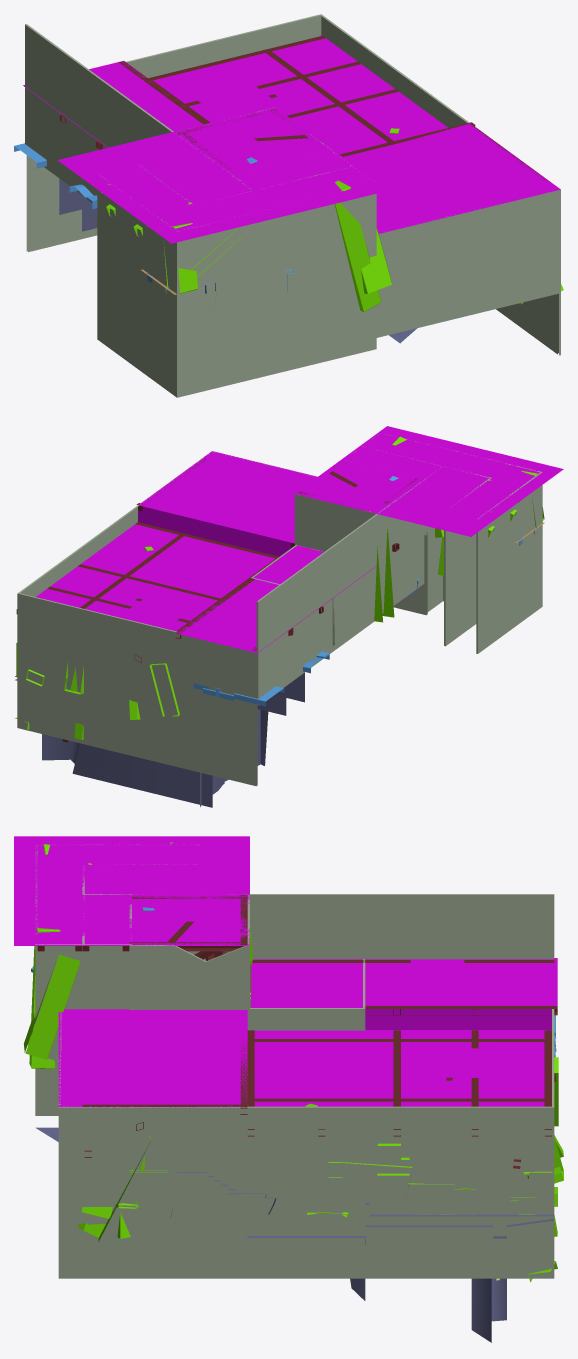
The model's file is nvl_4_probando.fbx.
3 views of the same model, one above another, from view 1: azimuth 30°, elevation 25°; view 2: azimuth 150°, elevation 25°; view 3: azimuth 270°, elevation 25° (orthographic). The views are drawn at different scales.
Parts seen in each view (by area): view 1: PAREDES, Techo, VIGA, PROTU_PAREDES, Piso, PROTU_SUELO; view 2: PAREDES, Techo, Piso, VIGA, PROTU_PAREDES, PROTU_SUELO; view 3: PAREDES, Techo, VIGA, PROTU_PAREDES, Piso, HUECO.
Part boxes in pixels (x1,y1,x2,y2): PAREDES: (25,14,560,397); Techo: (23,35,560,243); VIGA: (59,35,548,180); PROTU_PAREDES: (101,128,563,312); Piso: (59,178,556,343); PROTU_SUELO: (14,143,293,293); PAREDES: (17,433,542,786); Techo: (36,426,563,653); Piso: (15,672,304,807); VIGA: (16,458,416,742); PROTU_PAREDES: (14,436,544,739); PROTU_SUELO: (193,476,535,706); PAREDES: (35,844,554,1278); Techo: (14,836,557,1107); VIGA: (37,895,557,1168); PROTU_PAREDES: (24,842,563,1282); Piso: (35,1127,553,1342); HUECO: (59,1107,84,1214).
Bounding box in the file's own units: 21.92 × 14.1 × 23.31.
